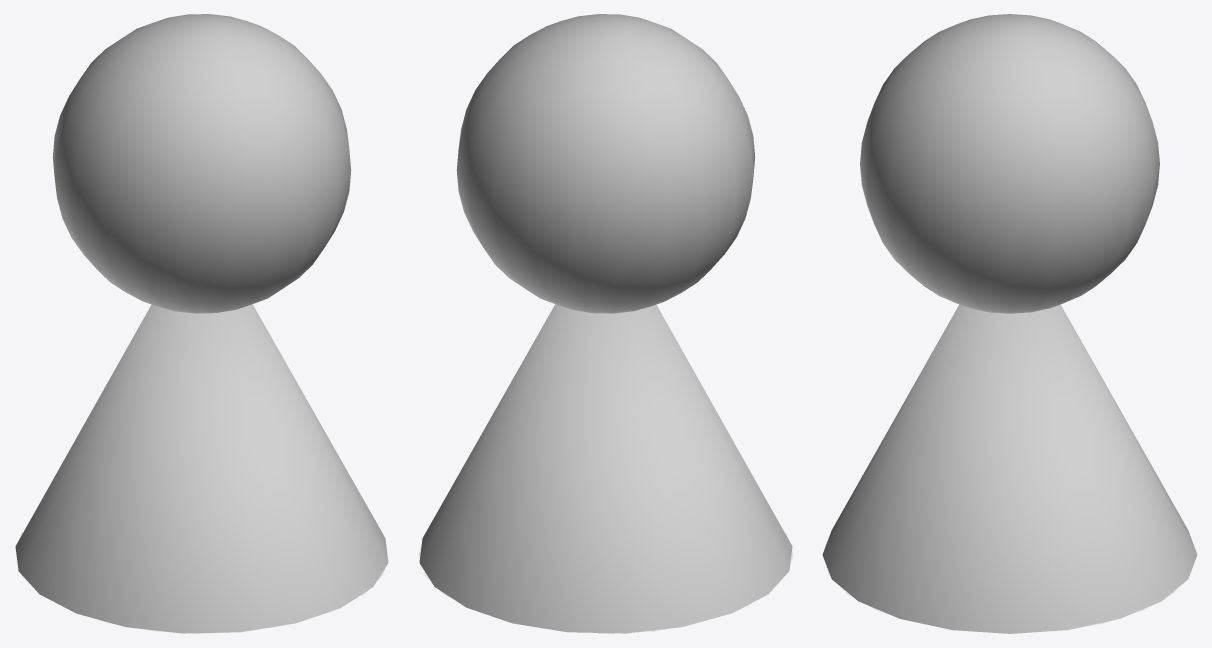
Rendered from Player1.fbx.
3 views of the same model, side by side, from view 1: azimuth 30°, elevation 25°; view 2: azimuth 150°, elevation 25°; view 3: azimuth 270°, elevation 25° (orthographic).
Visible parts, largest first — view 1: pCone2; view 2: pCone2; view 3: pCone2.
Part boxes in pixels (box(x1,y1,x2,y2)): pCone2: box(15, 14, 388, 633); pCone2: box(419, 14, 792, 633); pCone2: box(822, 14, 1197, 633).
Bounding box in the file's own units: 2 × 3.1 × 2.
